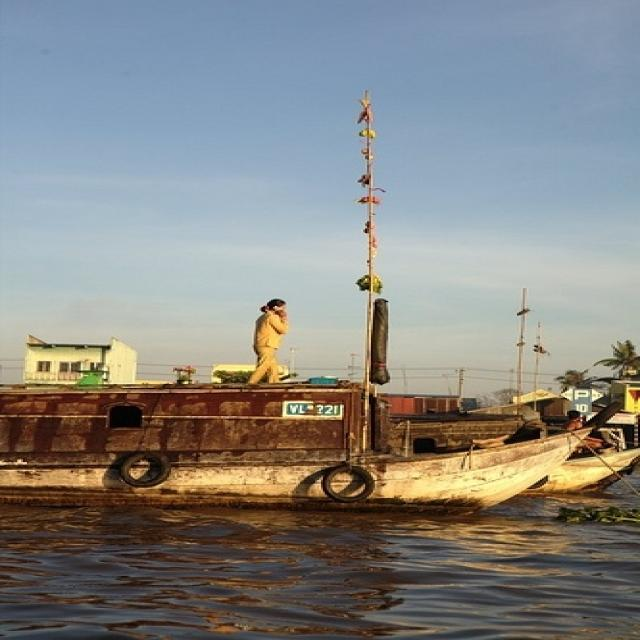Hyacinth: (567, 487, 640, 530)
boat: (2, 350, 600, 516)
